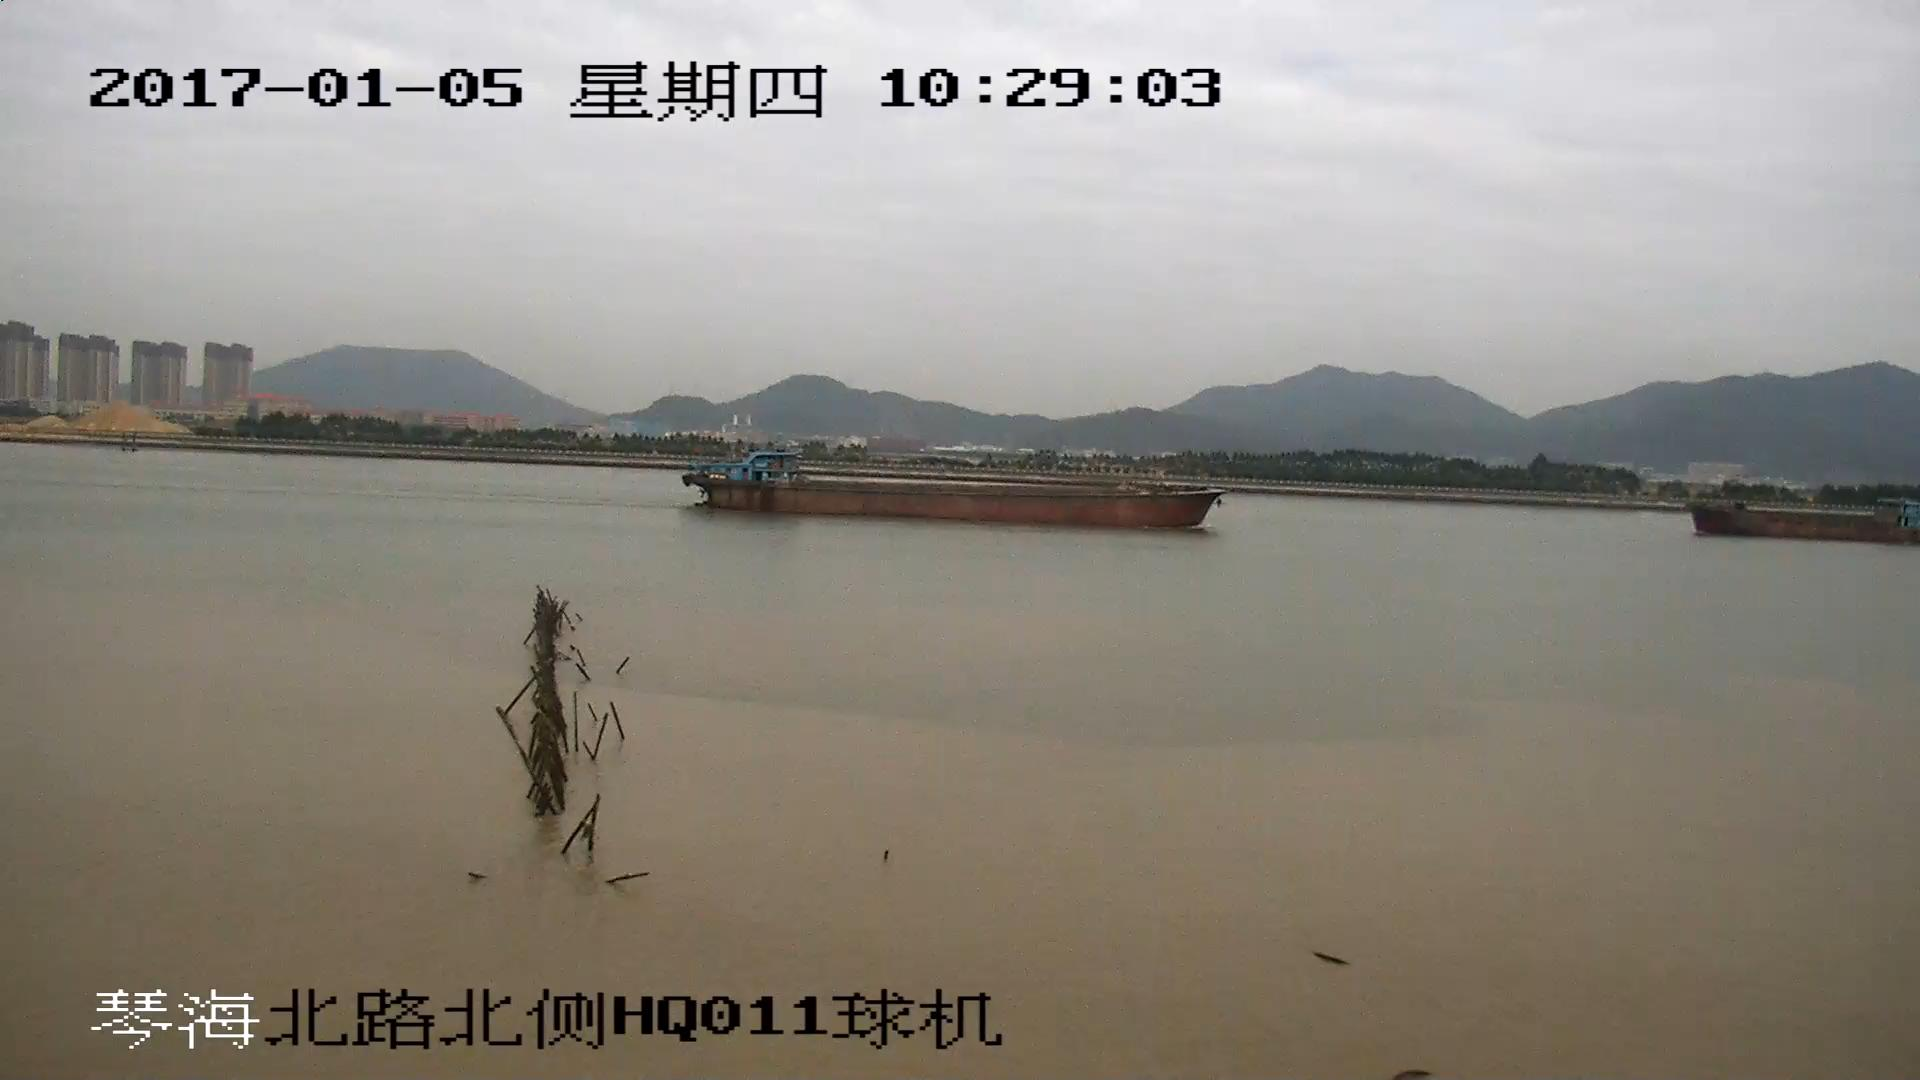bulk cargo carrier: (685, 446, 1215, 529), (1693, 491, 1920, 547)
